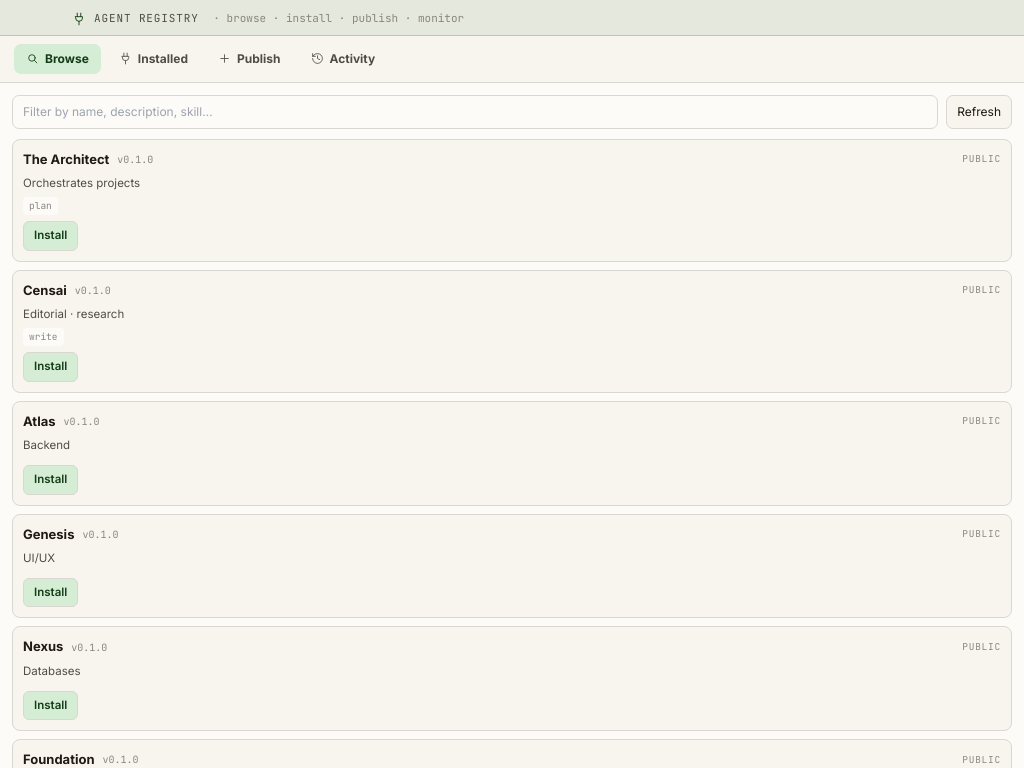
RegistryWindow — Activity tab › WS subscribe is wired for installed cards and events flow through
Click the button with test id "registry-install" below "plan".
click(51, 236)  # box [23, 221, 78, 251]
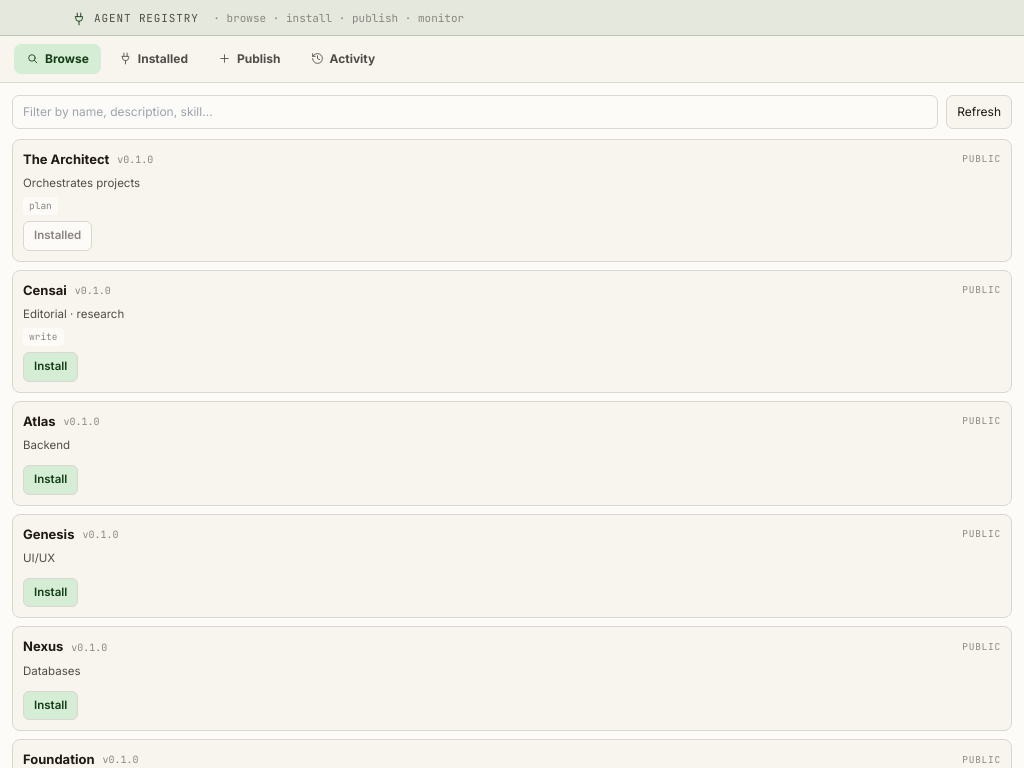
Click the button with test id "registry-tab-activity".
click(343, 58)  # box [298, 44, 387, 74]
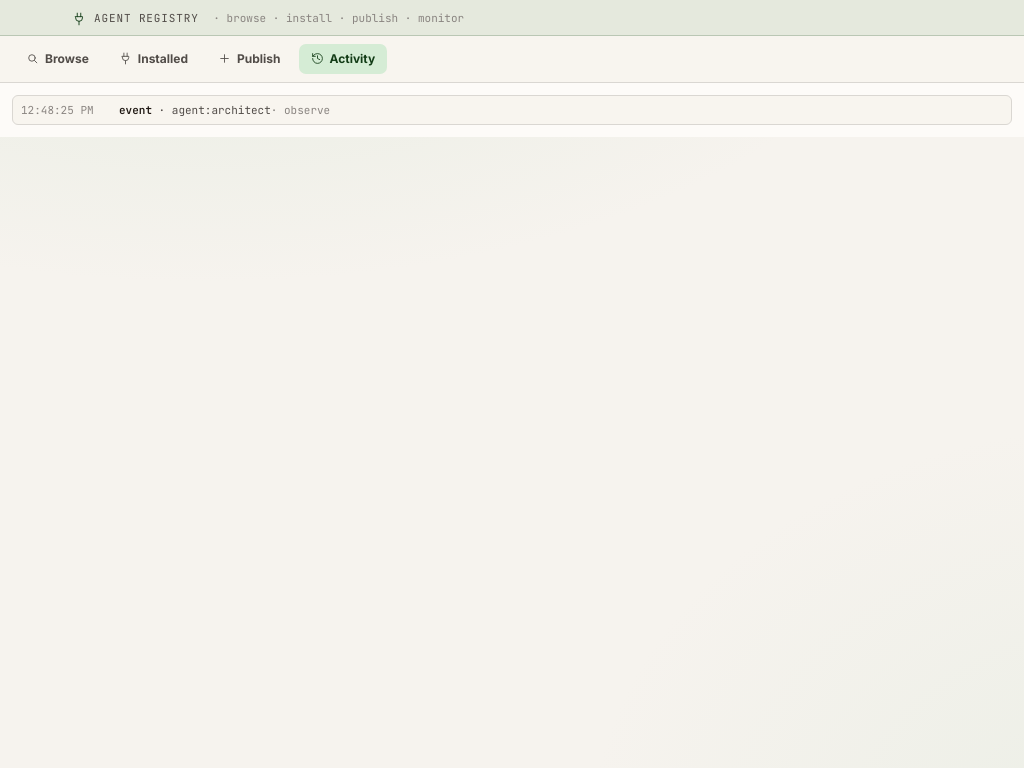
Now the element with test id "registry-activity-list" is shown, box [12, 94, 1012, 125]
